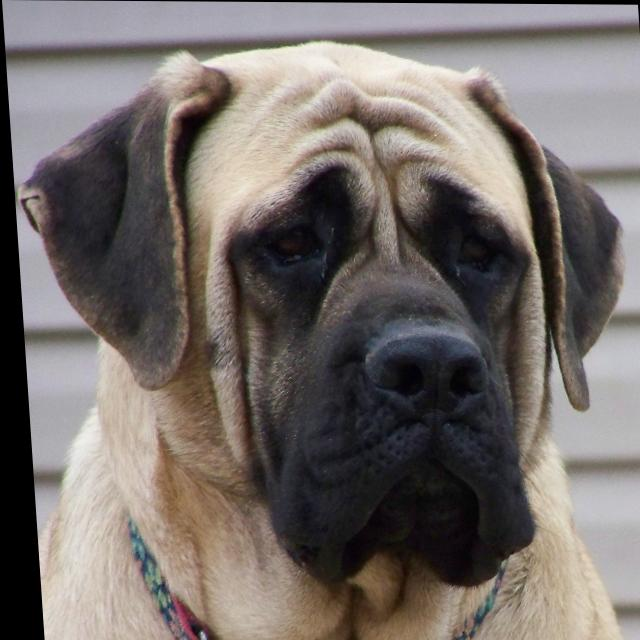mastiff: (4, 38, 640, 640)
